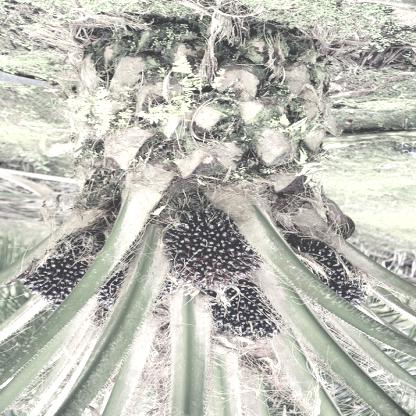1: (155, 205, 263, 288)
palm-oil: (290, 241, 374, 307), (20, 249, 98, 304), (214, 292, 283, 338), (98, 276, 122, 314)
